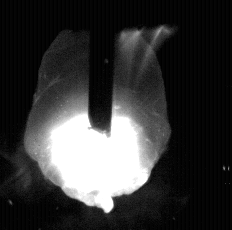arame: (88, 0, 114, 138)
poca: (23, 0, 169, 230)
